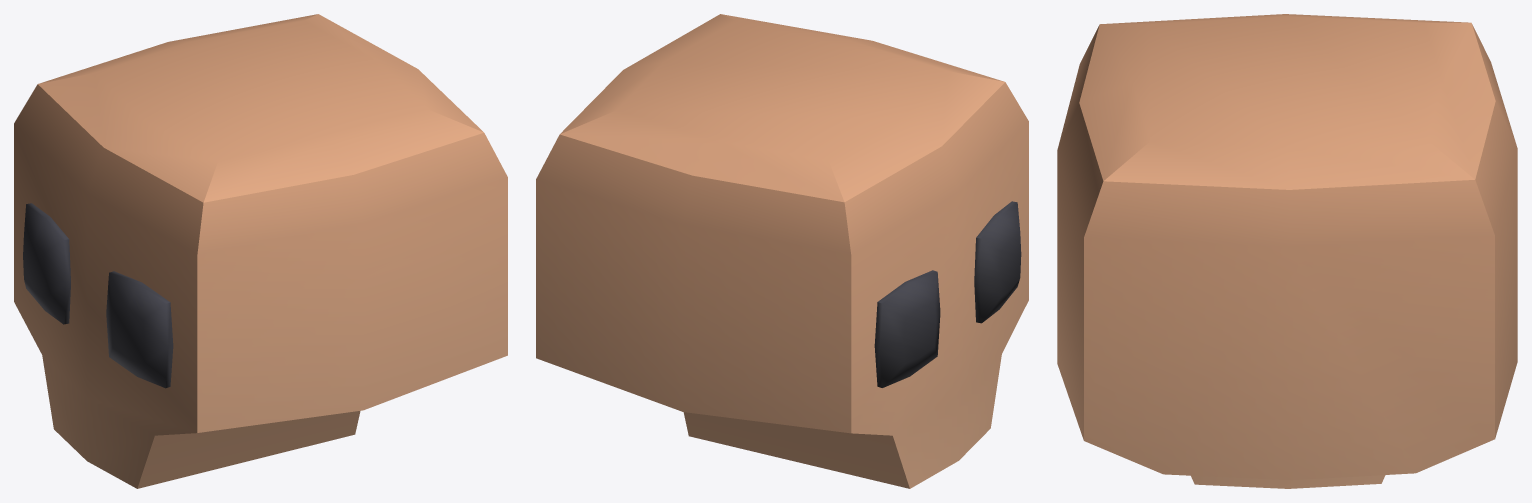
Rendered from head_lev3.glb.
3 renders of one model, left to right at view 1: azimuth 30°, elevation 25°; view 2: azimuth 150°, elevation 25°; view 3: azimuth 270°, elevation 25°, orthographic. The views are drawn at different scales.
Parts seen in each view (by area): view 1: head_lev3; view 2: head_lev3; view 3: head_lev3.
Boxes of the visible parts, box(x1,y1,x2,y2) form: head_lev3: box(14, 14, 507, 488); head_lev3: box(536, 14, 1028, 488); head_lev3: box(1057, 14, 1517, 488).
Bounding box in the file's own units: 1.81 × 1.57 × 1.76.
Materials: 1 (1 with a texture image).
